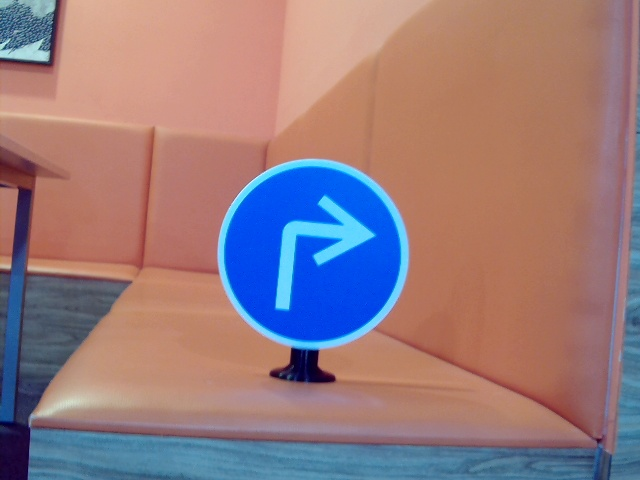turn_right: (268, 194, 370, 311)
